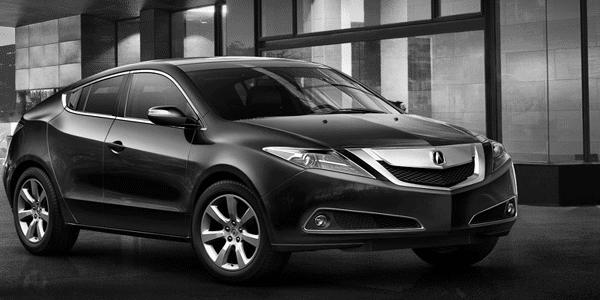car: (4, 60, 519, 283)
